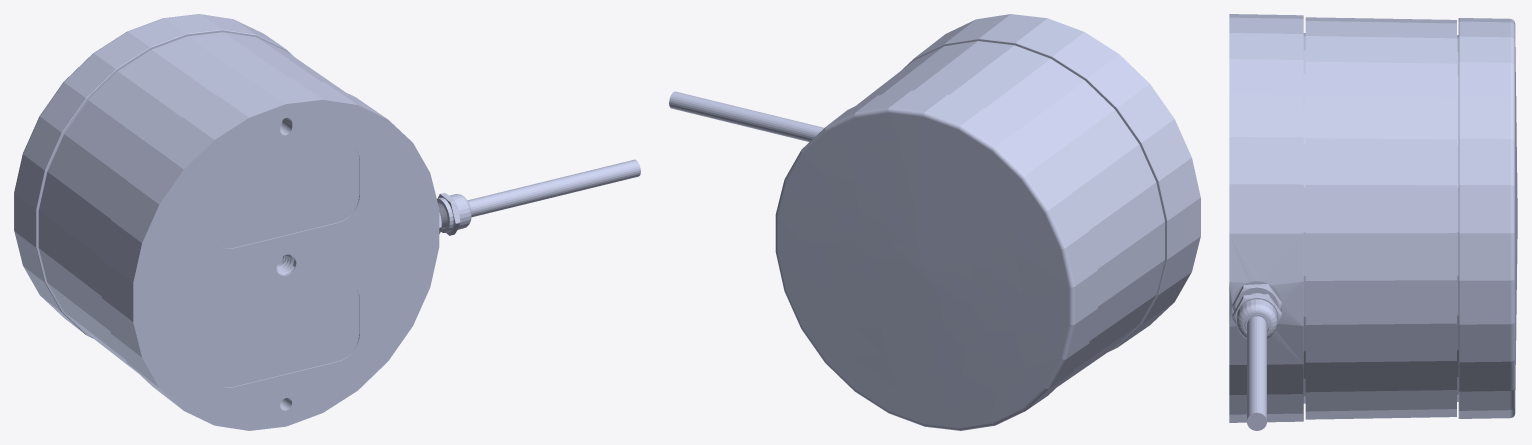
Rendered from vlp16.dae.
3 views of the same model, side by side, from view 1: azimuth 30°, elevation 25°; view 2: azimuth 150°, elevation 25°; view 3: azimuth 270°, elevation 25° (orthographic). The views are drawn at different scales.
Visible parts, largest first — view 1: node0; view 2: node0; view 3: node0.
Part boxes in pixels (x1,y1,x2,y2): node0: (14, 14, 640, 430); node0: (669, 14, 1200, 430); node0: (1229, 14, 1517, 430).
Bounding box in the file's own units: 0.1726 × 0.0727 × 0.1033.
